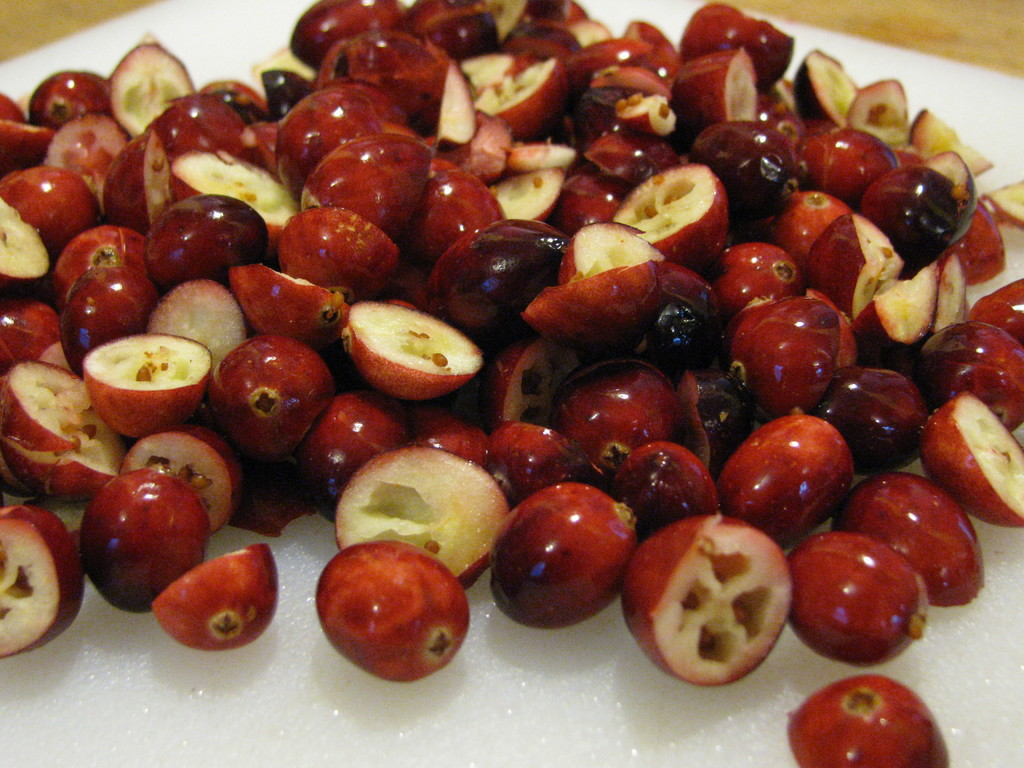Apple: (312, 538, 469, 683)
